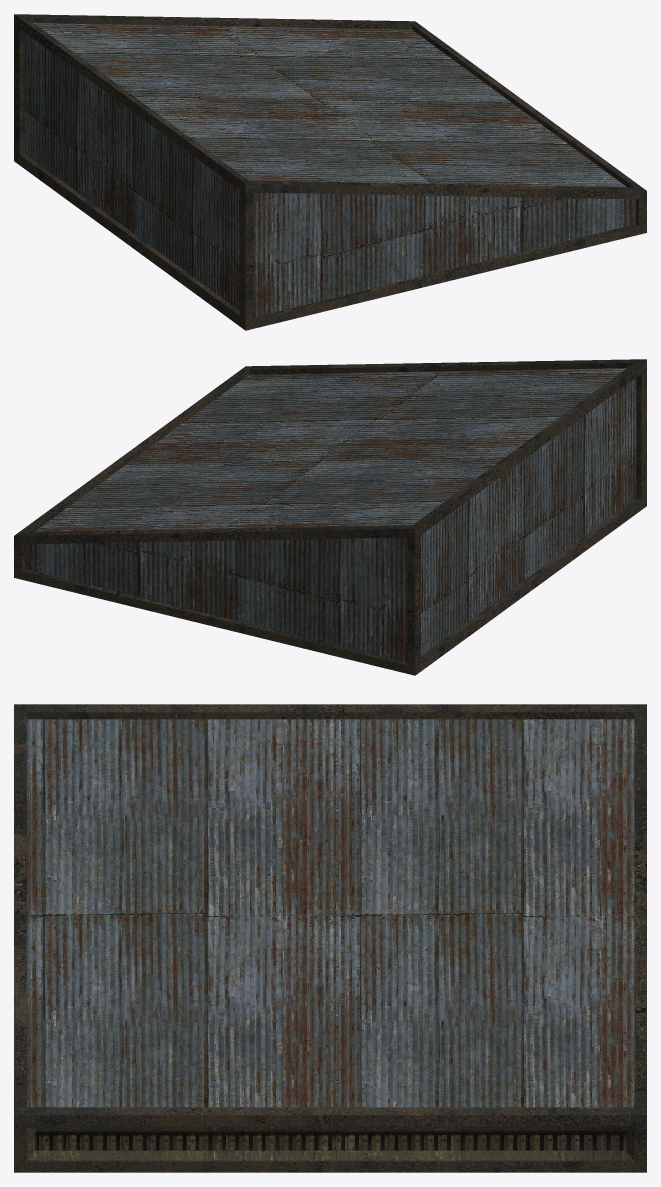
File: roof_mh_1.glb
3 renders of one model, top to bottom at view 1: azimuth 30°, elevation 25°; view 2: azimuth 150°, elevation 25°; view 3: azimuth 270°, elevation 25°, orthographic. The views are drawn at different scales.
Parts seen in each view (by area): view 1: roof_mh_1; view 2: roof_mh_1; view 3: roof_mh_1.
Part boxes in pixels (bbox=[...]): roof_mh_1: bbox=[14, 14, 646, 330]; roof_mh_1: bbox=[14, 359, 646, 675]; roof_mh_1: bbox=[14, 704, 646, 1172].
Bounding box in the file's own units: 4 × 1.4 × 4.
Materials: 5 (5 with a texture image).
